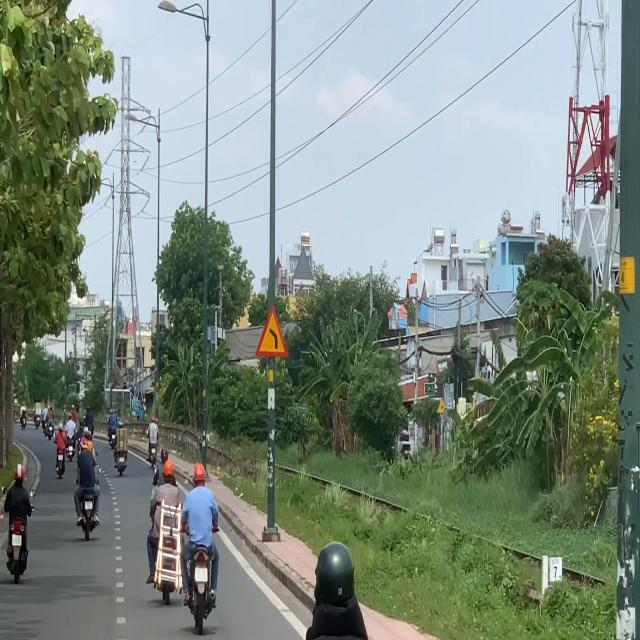Nguy hiem: (254, 304, 290, 361)
